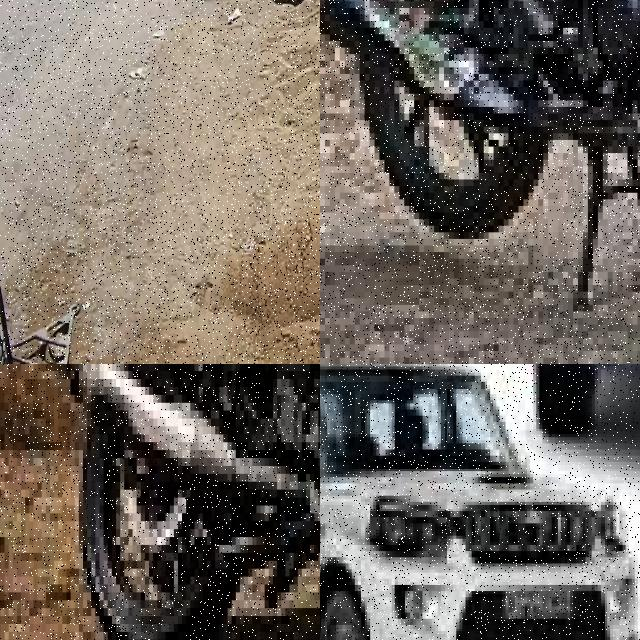bike: (320, 0, 640, 364), (66, 364, 320, 640)
car: (320, 364, 631, 640)
